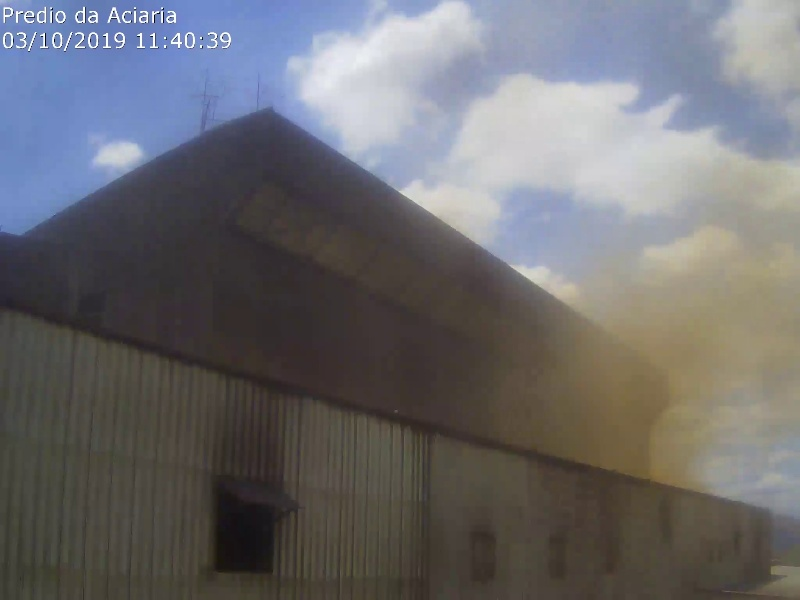bom: (3, 2, 295, 294), (291, 1, 494, 359)
pessimo: (536, 97, 800, 487)
